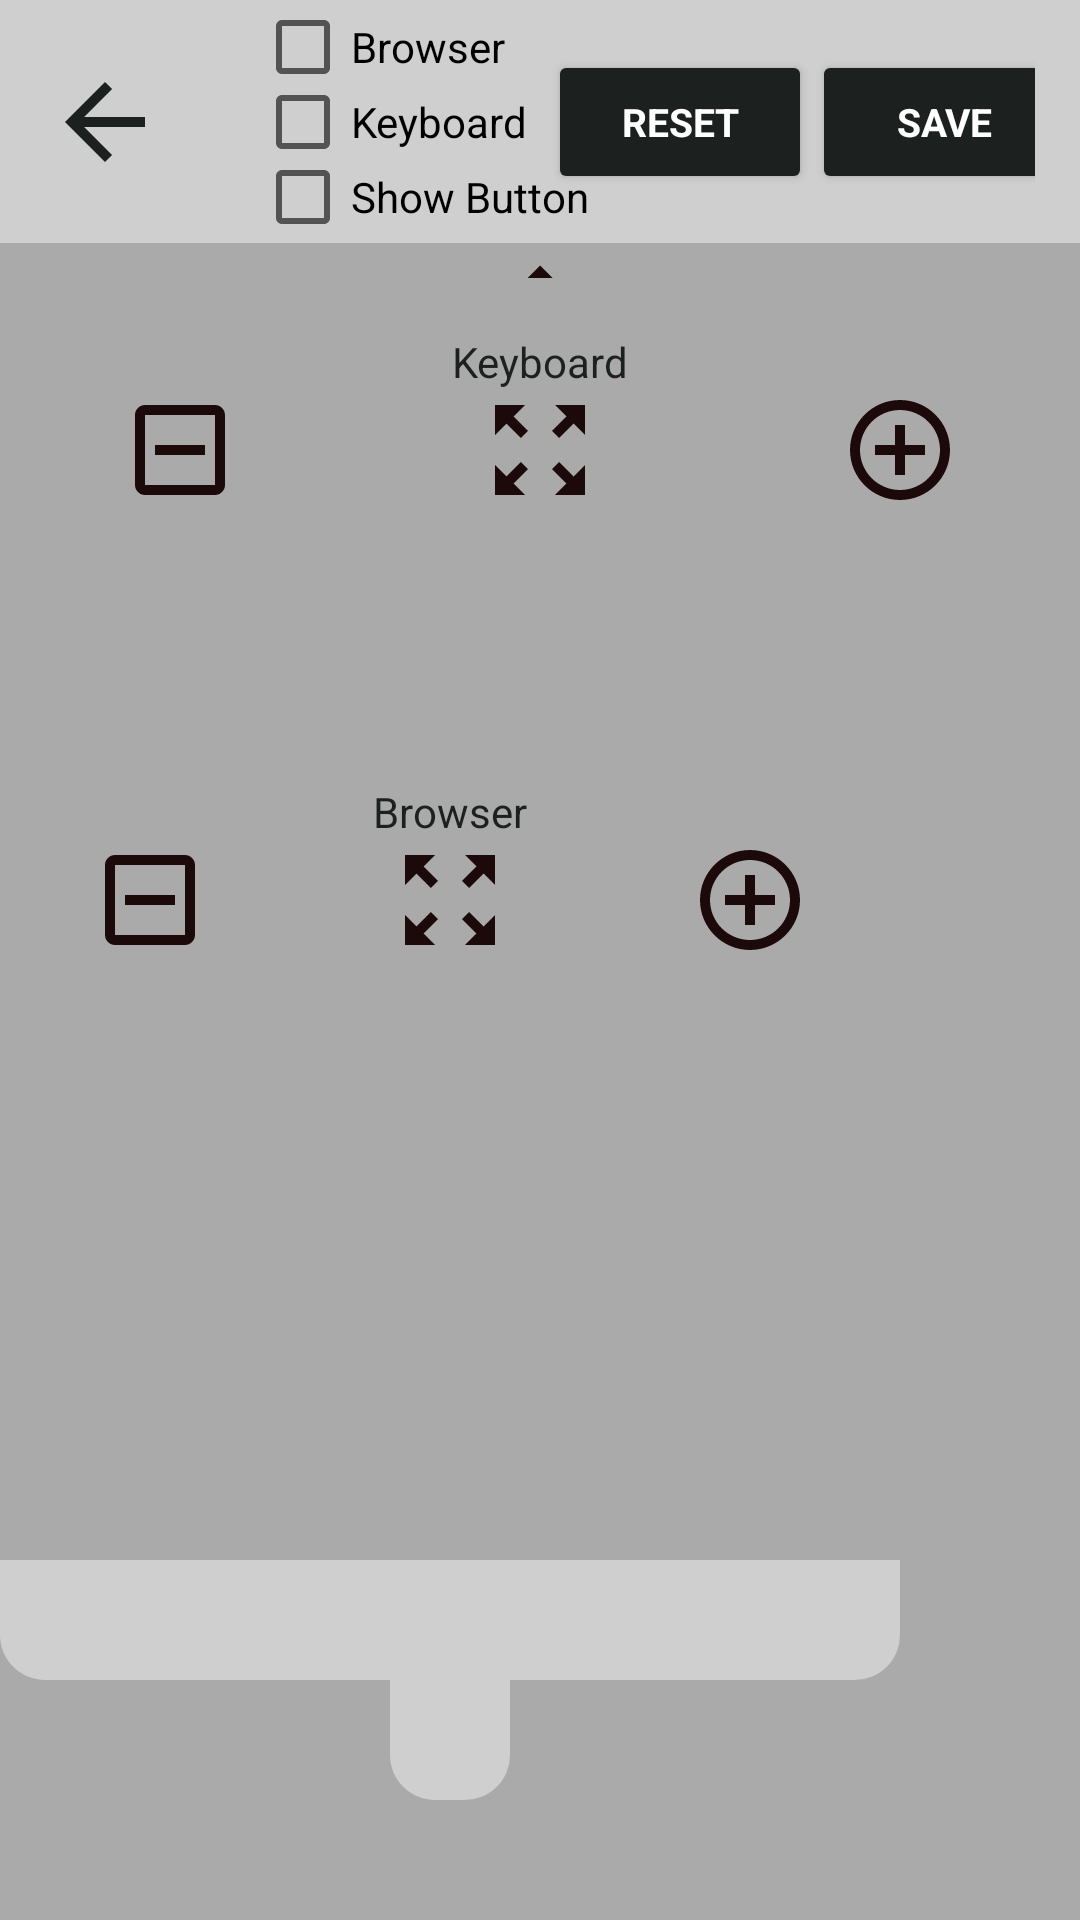

Named icons in this screenshot (1080 × 1920) and their centers, (x=x, y=y):
arrow up: (x=540, y=271)
back: (x=105, y=122)
move: (x=540, y=450), (x=450, y=900)
